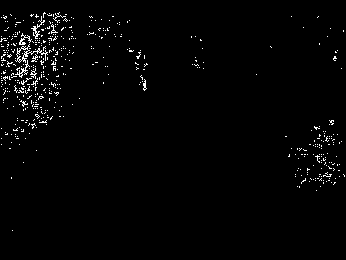person: (131, 49, 149, 93)
